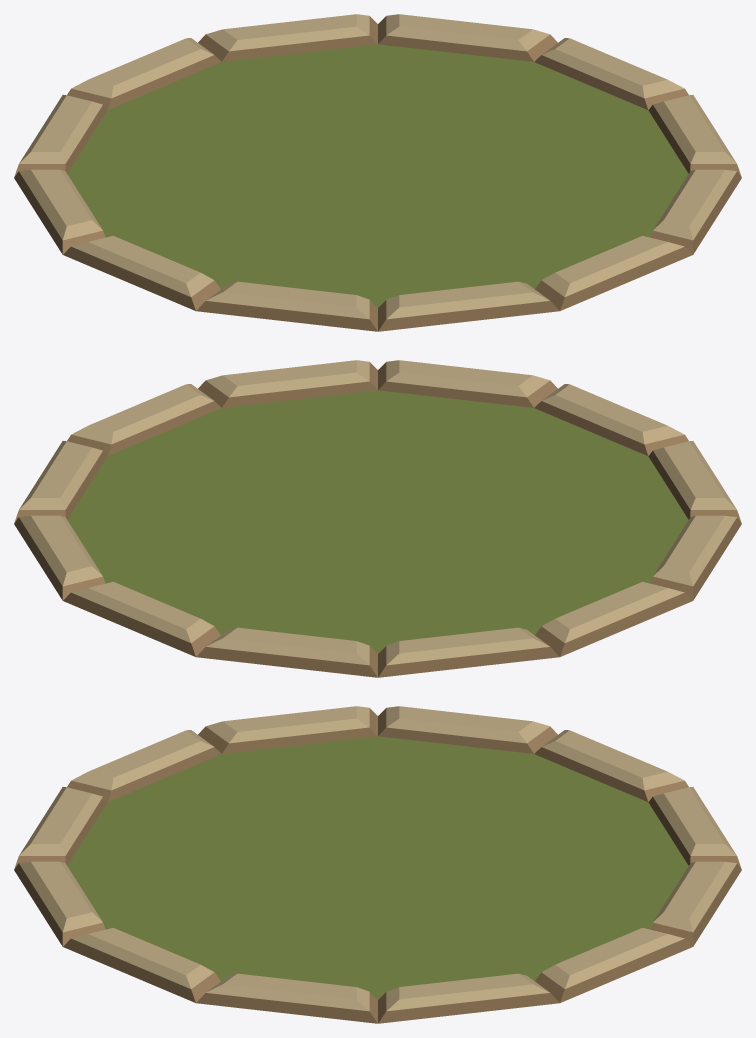
The model's file is GrassPatchLarge_01.glb.
3 views of the same model, one above another, from view 1: azimuth 30°, elevation 25°; view 2: azimuth 150°, elevation 25°; view 3: azimuth 270°, elevation 25° (orthographic).
Visible parts, largest first — view 1: GrassPatchLarge_01; view 2: GrassPatchLarge_01; view 3: GrassPatchLarge_01.
Part boxes in pixels (x1,y1,x2,y2): GrassPatchLarge_01: (14, 14, 741, 331); GrassPatchLarge_01: (14, 360, 741, 677); GrassPatchLarge_01: (14, 706, 741, 1023).
Size of the model in its own units: 5.18 by 0.1349 by 5.18.
Materials: 1 (1 with a texture image).
